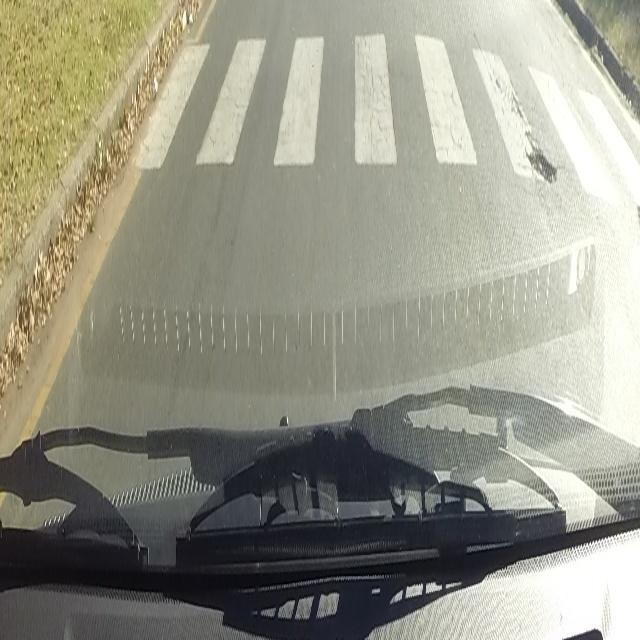pothole: (524, 140, 558, 188)
